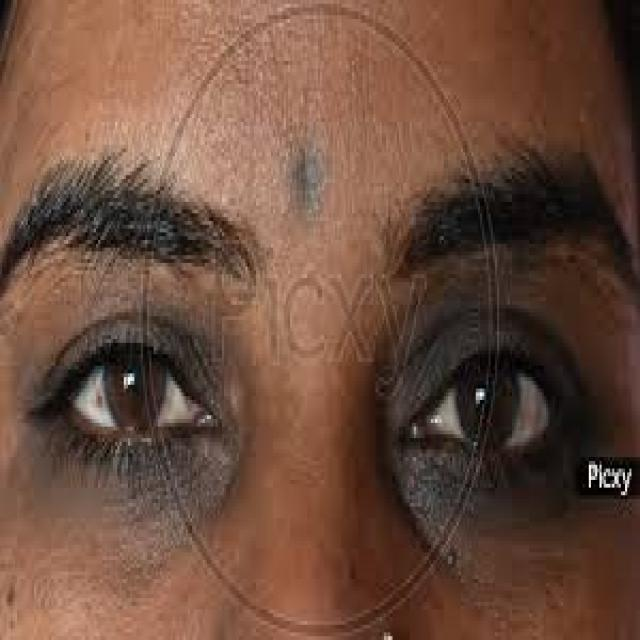high: (36, 433, 234, 574), (396, 461, 609, 553)
